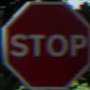Stop: (5, 5, 85, 84)
